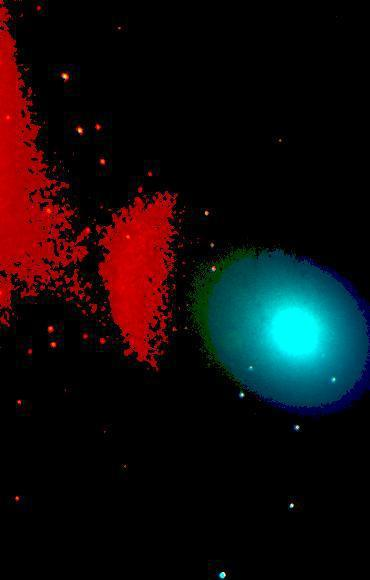star: (248, 326, 278, 356)
